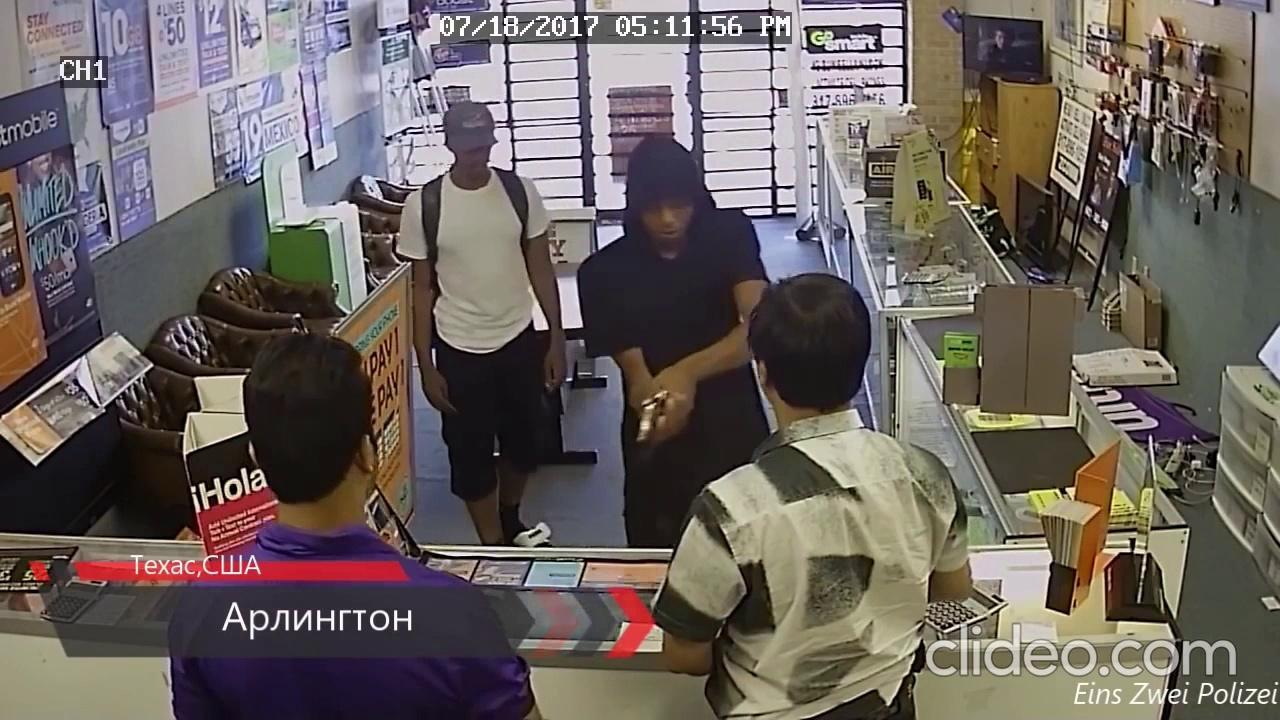person: (167, 328, 547, 720), (653, 272, 973, 720), (577, 133, 774, 547), (396, 98, 569, 550)
pistol: (636, 385, 681, 456)
